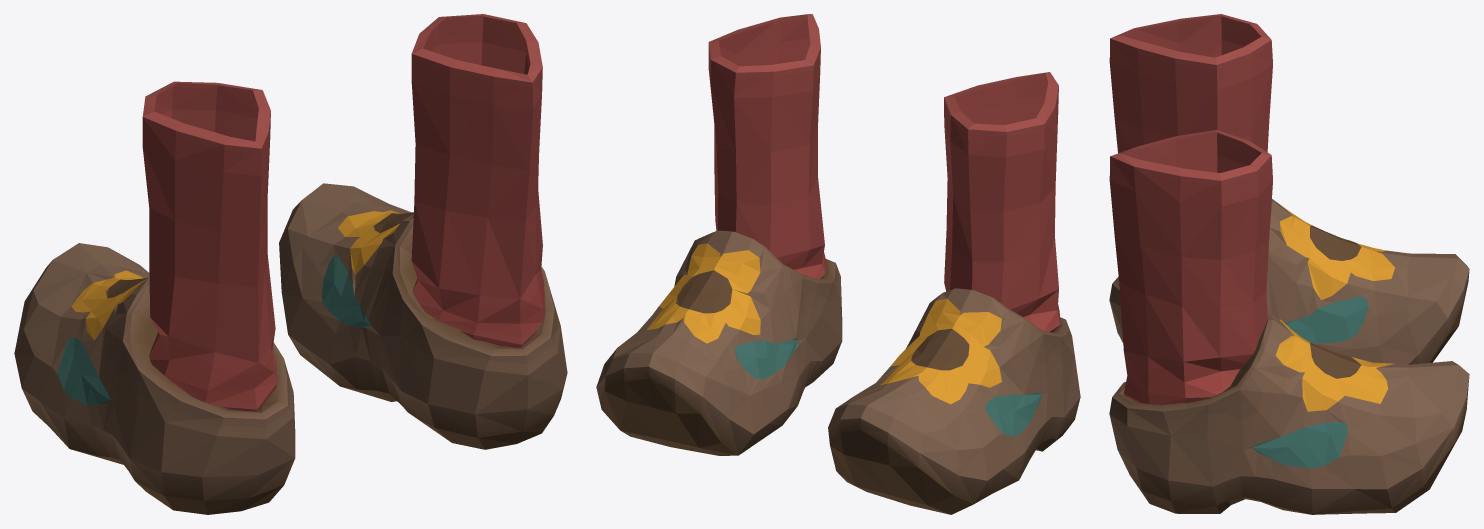
Rendered from CharSkyKid_Feet_AP31Clogs.glb.
The picture shows the model from 3 angles, left to right: view 1: azimuth 30°, elevation 25°; view 2: azimuth 150°, elevation 25°; view 3: azimuth 270°, elevation 25°; orthographic projection. The views are drawn at different scales.
Visible parts, largest first — view 1: CharSkyKid_Feet_AP31Clogs; view 2: CharSkyKid_Feet_AP31Clogs; view 3: CharSkyKid_Feet_AP31Clogs.
Boxes of the visible parts, x1,y1,x2,y2 form: CharSkyKid_Feet_AP31Clogs: (14, 14, 567, 514); CharSkyKid_Feet_AP31Clogs: (596, 14, 1080, 514); CharSkyKid_Feet_AP31Clogs: (1109, 14, 1469, 514).
Size of the model in its own units: 3.02 by 2.5 by 2.4.
Materials: 1 (1 with a texture image).
